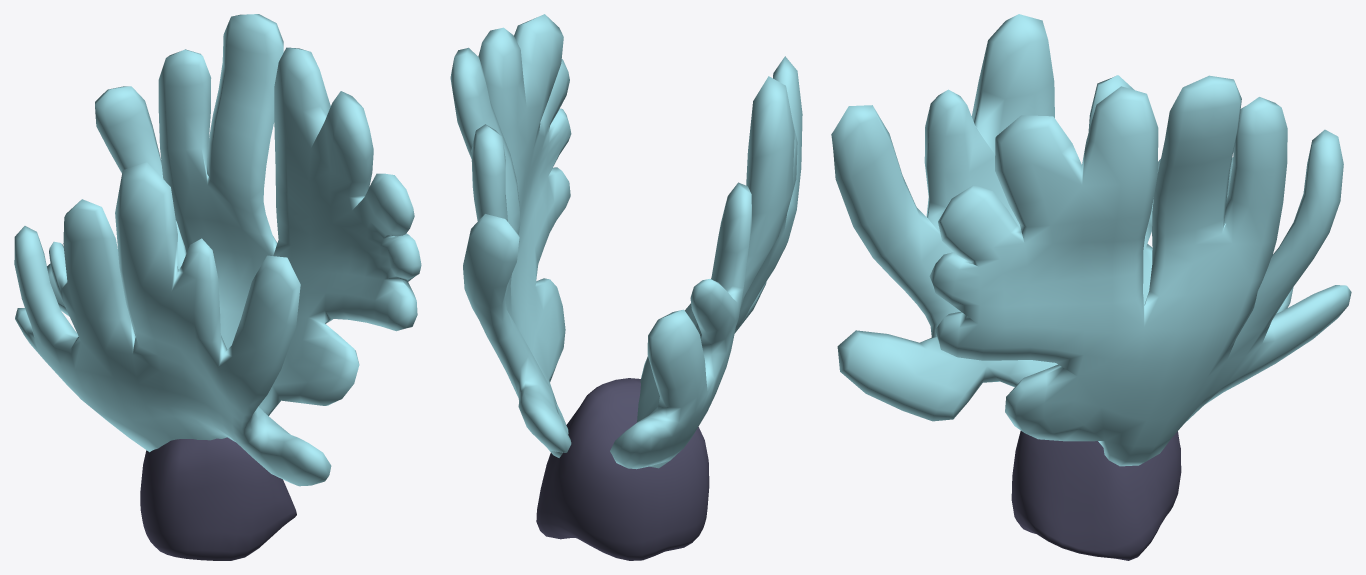
The model's file is Elkhorn_01.fbx.
3 views of the same model, side by side, from view 1: azimuth 30°, elevation 25°; view 2: azimuth 150°, elevation 25°; view 3: azimuth 270°, elevation 25° (orthographic). The views are drawn at different scales.
Visible parts, largest first — view 1: Elkhorn_01_LOD0; view 2: Elkhorn_01_LOD0; view 3: Elkhorn_01_LOD0.
Part boxes in pixels (<box>): Elkhorn_01_LOD0: <box>14,14,421,560</box>; Elkhorn_01_LOD0: <box>450,14,802,560</box>; Elkhorn_01_LOD0: <box>831,14,1351,560</box>.
Size of what is drawn, in the model's own units: 585 by 940 by 876.
